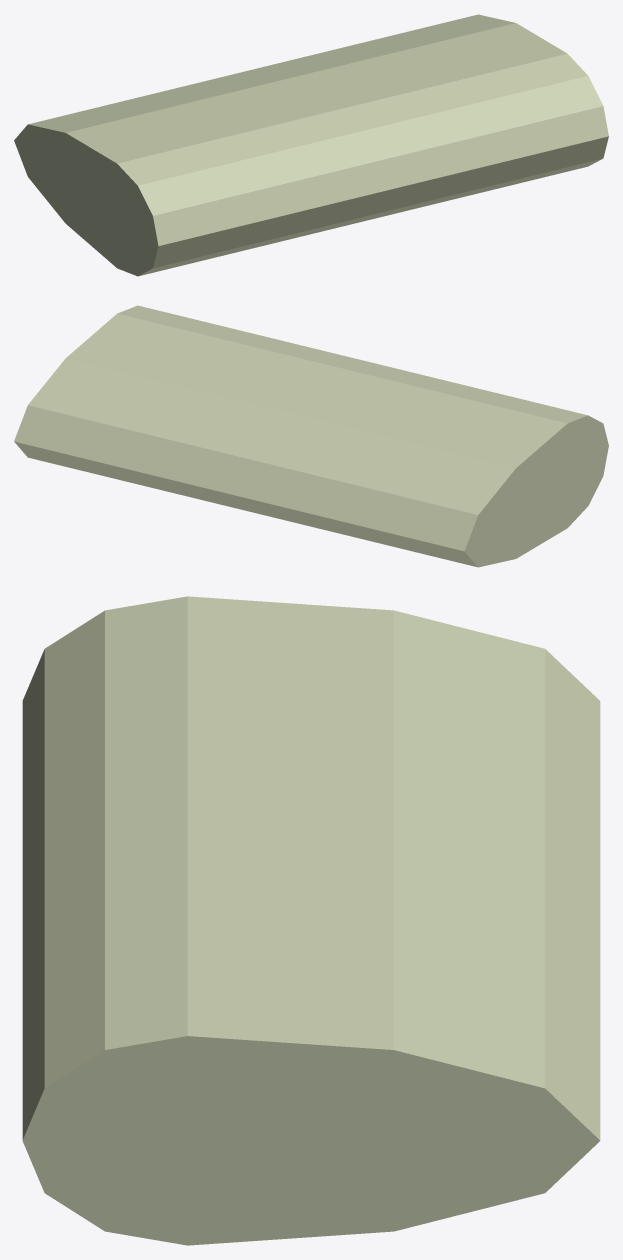
File: prop_m_avionics_s0_1_arm_collider.obj
The picture shows the model from 3 angles, top to bottom: view 1: azimuth 30°, elevation 25°; view 2: azimuth 150°, elevation 25°; view 3: azimuth 270°, elevation 25°; orthographic projection. The views are drawn at different scales.
Visible parts, largest first — view 1: collider; view 2: collider; view 3: collider.
Boxes of the visible parts, x1,y1,x2,y2 form: collider: (14,14,608,276); collider: (14,305,608,567); collider: (22,596,600,1245).
Bounding box in the file's own units: 0.225 × 0.05 × 0.125.
